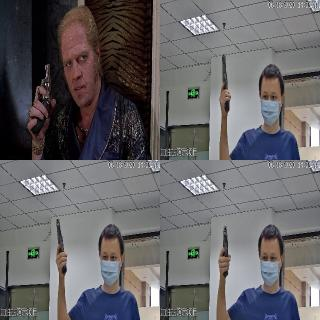gun: (29, 63, 53, 135), (54, 216, 66, 274), (220, 53, 230, 111), (220, 224, 230, 278)
